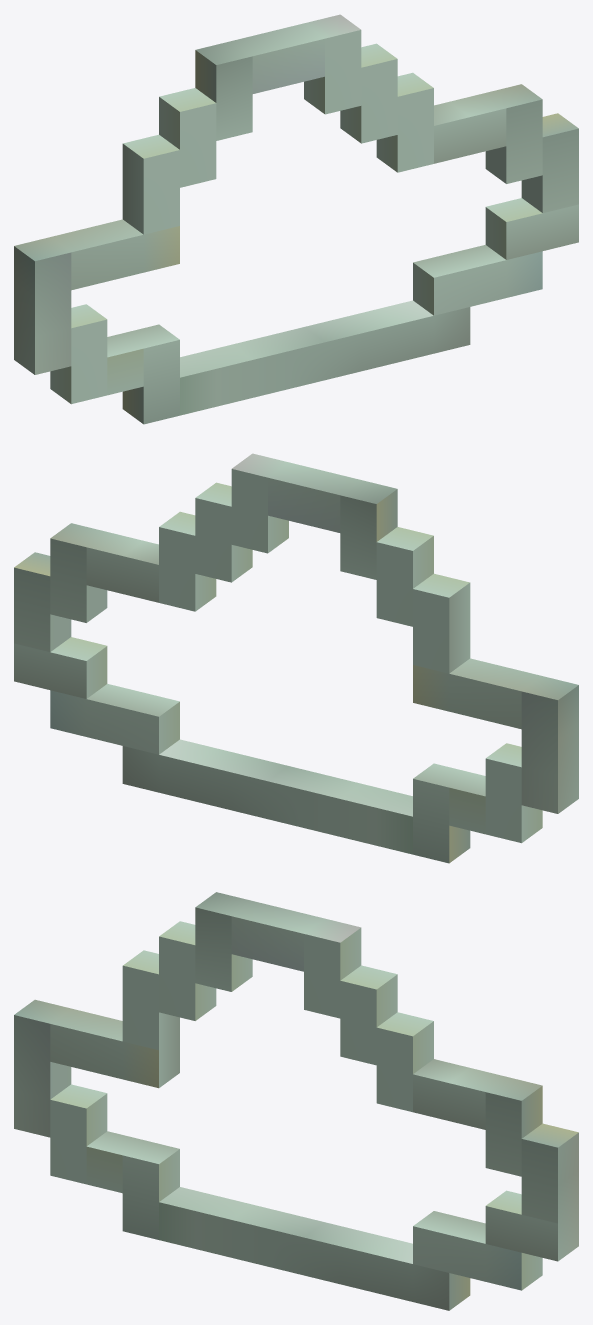
File: WallDecorCloudOutlineSmall_00.obj
3 renders of one model, top to bottom at view 1: azimuth 30°, elevation 25°; view 2: azimuth 150°, elevation 25°; view 3: azimuth 330°, elevation 25°, orthographic.
Visible parts, largest first — view 1: WallDecorCloudOutlineSmall_00; view 2: WallDecorCloudOutlineSmall_00; view 3: WallDecorCloudOutlineSmall_00.
Boxes of the visible parts, x1,y1,x2,y2 form: WallDecorCloudOutlineSmall_00: (14,14,578,424); WallDecorCloudOutlineSmall_00: (14,453,578,863); WallDecorCloudOutlineSmall_00: (14,892,578,1310).
Size of the model in its own units: 0.75 by 0.45 by 0.05.
